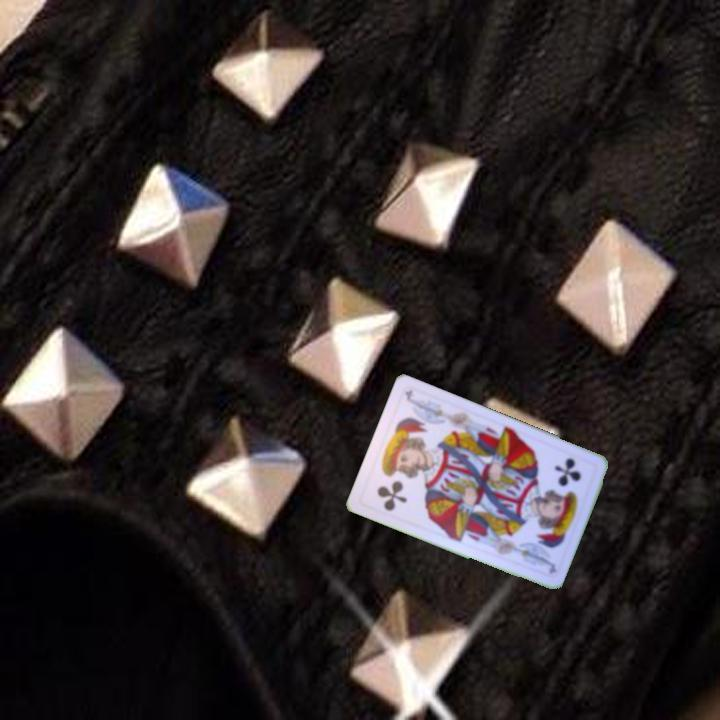c_j.png: (522, 442, 599, 524), (357, 442, 434, 524)
